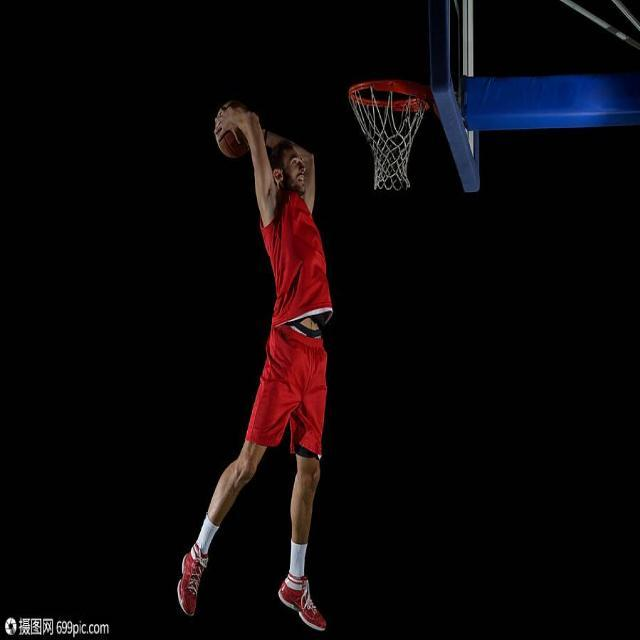rim: (216, 102, 250, 154)
